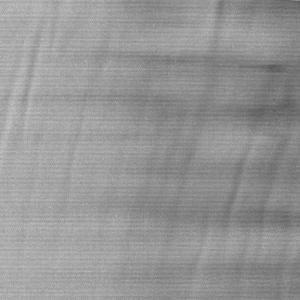Wrinkle: (162, 4, 300, 300), (1, 1, 122, 260)
